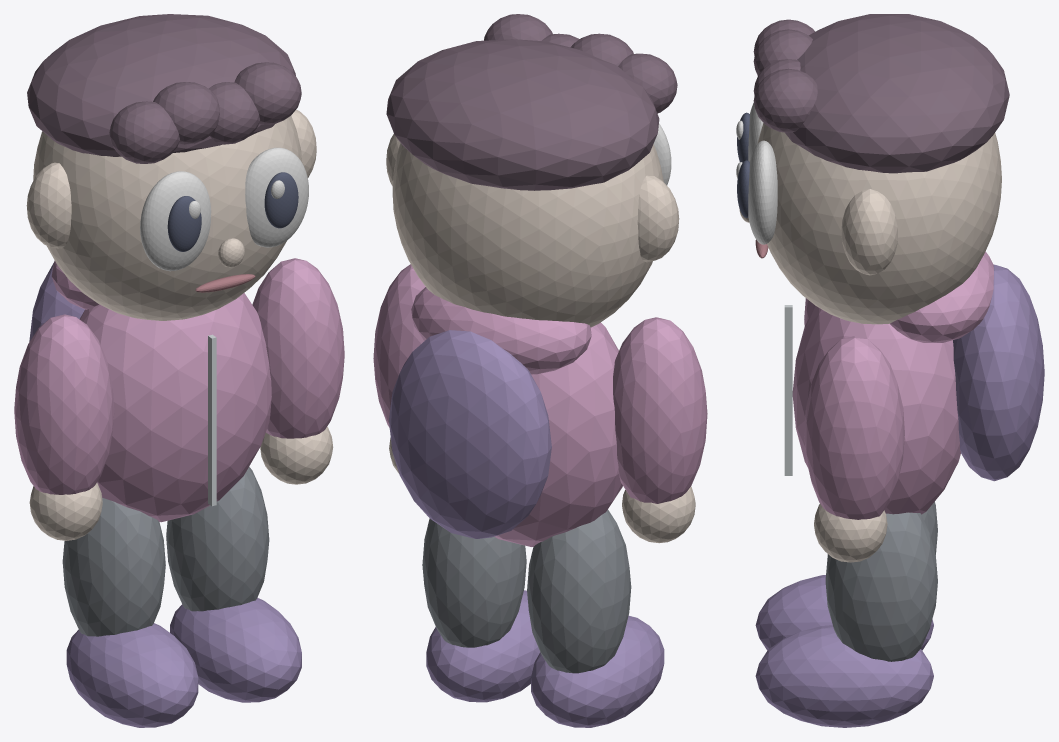
Rendered from chibi-sakura.glb.
3 views of the same model, side by side, from view 1: azimuth 30°, elevation 25°; view 2: azimuth 150°, elevation 25°; view 3: azimuth 270°, elevation 25° (orthographic).
Visible parts, largest first — view 1: Torso_7, Head_1, Hair_2, Arm_15, Arm_23, Leg_17, Shoe_18, Leg_25, Shoe_26, EyeWhite_12, EyeWhite_20, HairTuft_3 (+14 smaller); view 2: Hair_2, Head_1, Backpack_10, Arm_15, Torso_7, Leg_17, Leg_25, Shoe_18, Hood_8, Shoe_26, Arm_23, Ear_11 (+5 smaller); view 3: Head_1, Hair_2, Arm_23, Backpack_10, Torso_7, Shoe_26, Leg_25, Hood_8, Ear_19, Shoe_18, HairTuft_6, Hand_24 (+5 smaller).
Part boxes in pixels (x1=…): Torso_7: x1=79, y1=293, x2=271, y2=522; Head_1: x1=33, y1=116, x2=302, y2=320; Hair_2: x1=27, y1=14, x2=295, y2=156; Arm_15: x1=14, y1=314, x2=114, y2=494; Arm_23: x1=252, y1=258, x2=344, y2=438; Leg_17: x1=62, y1=497, x2=165, y2=636; Shoe_18: x1=66, y1=623, x2=198, y2=727; Leg_25: x1=166, y1=466, x2=269, y2=611; Shoe_26: x1=170, y1=598, x2=301, y2=702; EyeWhite_12: x1=140, y1=171, x2=211, y2=271; EyeWhite_20: x1=245, y1=147, x2=308, y2=247; HairTuft_3: x1=109, y1=101, x2=179, y2=163; Hair_2: x1=386, y1=39, x2=659, y2=190; Head_1: x1=392, y1=143, x2=663, y2=327; Backpack_10: x1=388, y1=330, x2=551, y2=538; Arm_15: x1=613, y1=317, x2=707, y2=503; Torso_7: x1=494, y1=322, x2=622, y2=546; Leg_17: x1=527, y1=509, x2=631, y2=673; Leg_25: x1=422, y1=518, x2=526, y2=647; Shoe_18: x1=531, y1=616, x2=664, y2=727; Hood_8: x1=411, y1=287, x2=591, y2=374; Shoe_26: x1=426, y1=590, x2=540, y2=702; Arm_23: x1=373, y1=264, x2=425, y2=427; Ear_11: x1=637, y1=175, x2=679, y2=262; Head_1: x1=757, y1=123, x2=1001, y2=324; Hair_2: x1=785, y1=14, x2=1009, y2=173; Arm_23: x1=804, y1=336, x2=904, y2=519; Backpack_10: x1=953, y1=264, x2=1044, y2=481; Torso_7: x1=792, y1=306, x2=960, y2=514; Shoe_26: x1=755, y1=625, x2=933, y2=727; Leg_25: x1=825, y1=512, x2=937, y2=661; Hood_8: x1=890, y1=251, x2=993, y2=342; Ear_19: x1=841, y1=189, x2=897, y2=275; Shoe_18: x1=755, y1=575, x2=933, y2=650; HairTuft_6: x1=753, y1=68, x2=817, y2=132; Hand_24: x1=814, y1=504, x2=887, y2=562.
Size of the model in its own units: 0.95 by 1.87 by 0.795.
